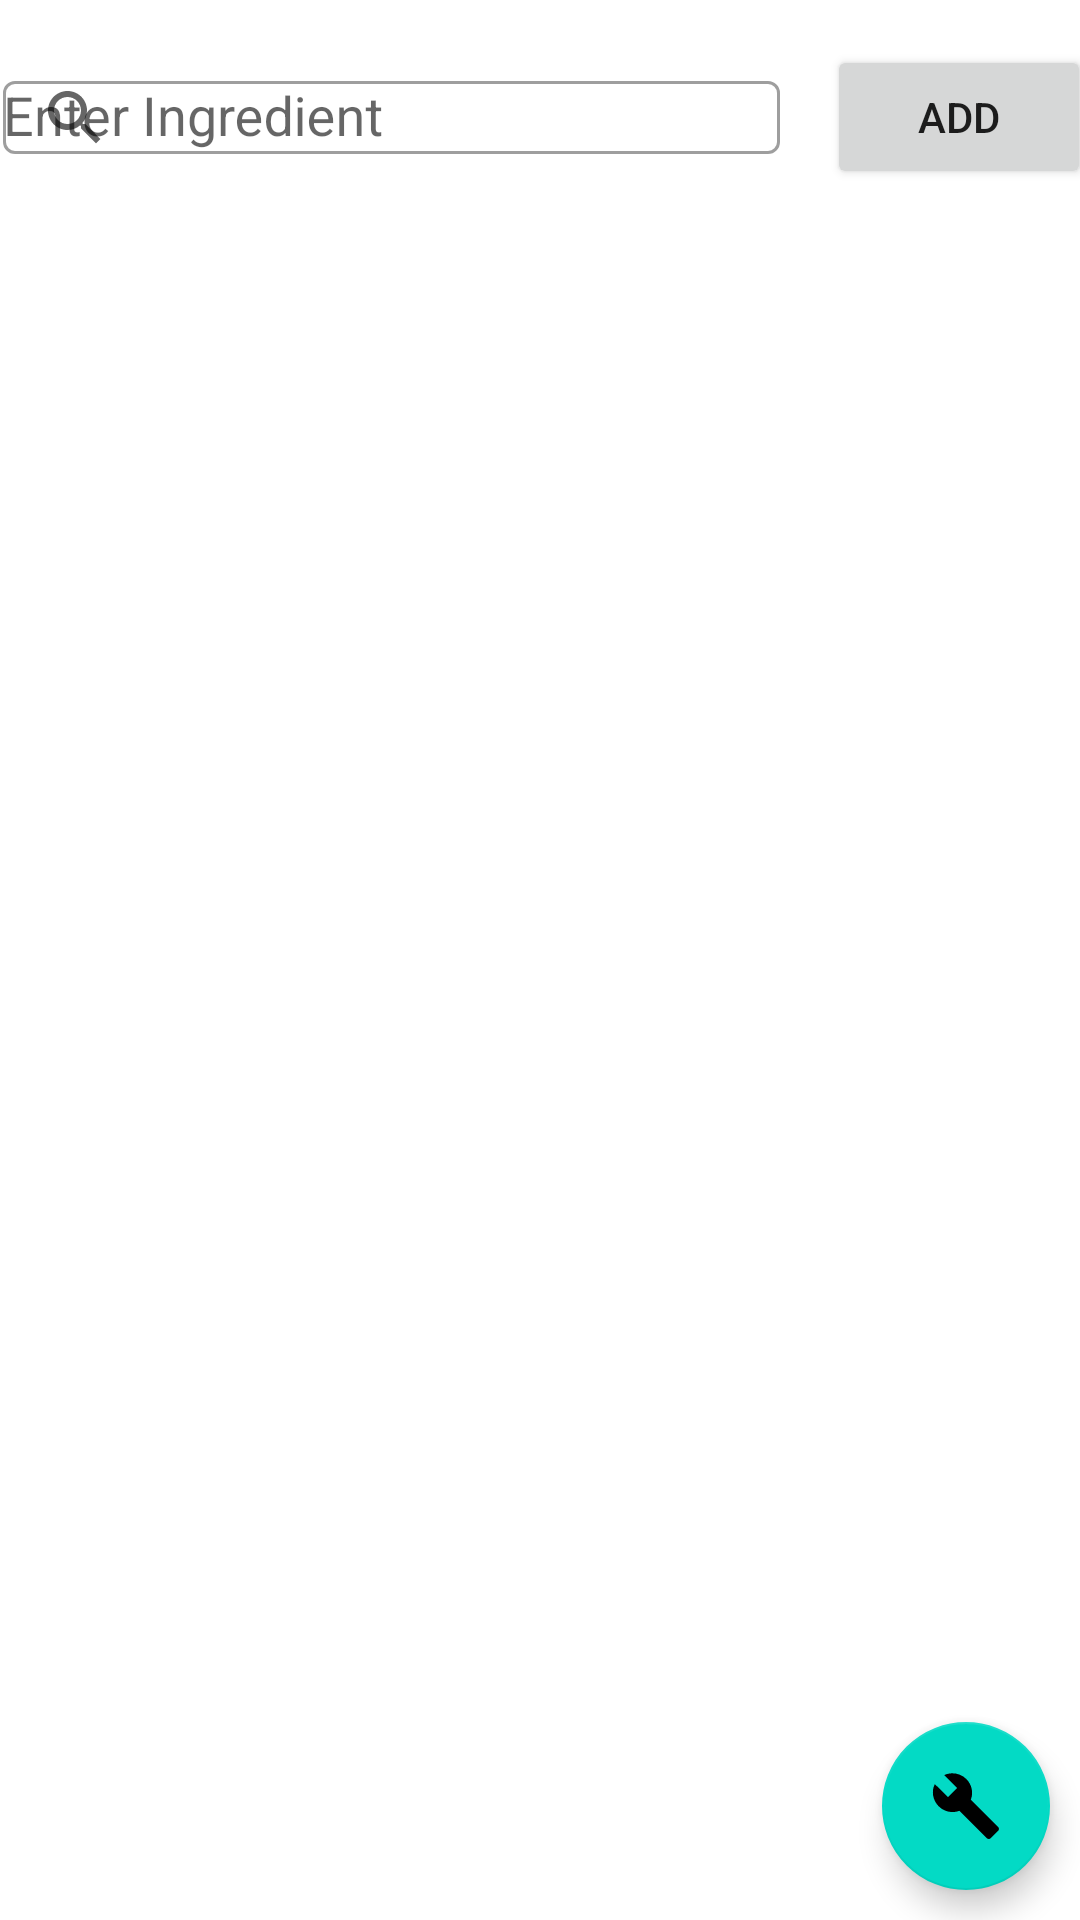

Icon bounding boxes for this 1080px x 1920px phone screenshot, format region(x1, y1, x2, y2):
build: region(882, 1722, 1050, 1890)
